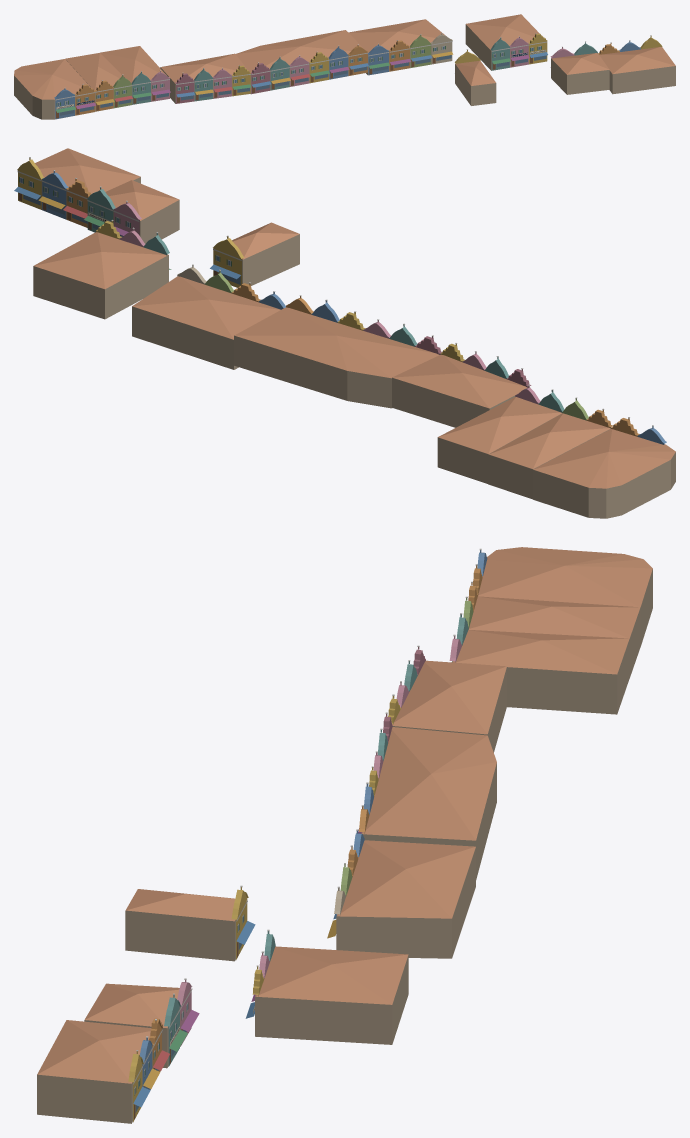
Rendered from ora_klip.glb.
3 views of the same model, one above another, from view 1: azimuth 30°, elevation 25°; view 2: azimuth 150°, elevation 25°; view 3: azimuth 270°, elevation 25° (orthographic). The views are drawn at different scales.
Parts seen in each view (by area): view 1: ora_klip_lod0; view 2: ora_klip_lod0; view 3: ora_klip_lod0.
Boxes of the visible parts, x1,y1,x2,y2 form: ora_klip_lod0: [14, 14, 675, 119]; ora_klip_lod0: [14, 148, 675, 518]; ora_klip_lod0: [37, 547, 652, 1123].
Size of what is drawn, in the model's own units: 158 by 12 by 79.4.
Materials: 3 (1 with a texture image).
